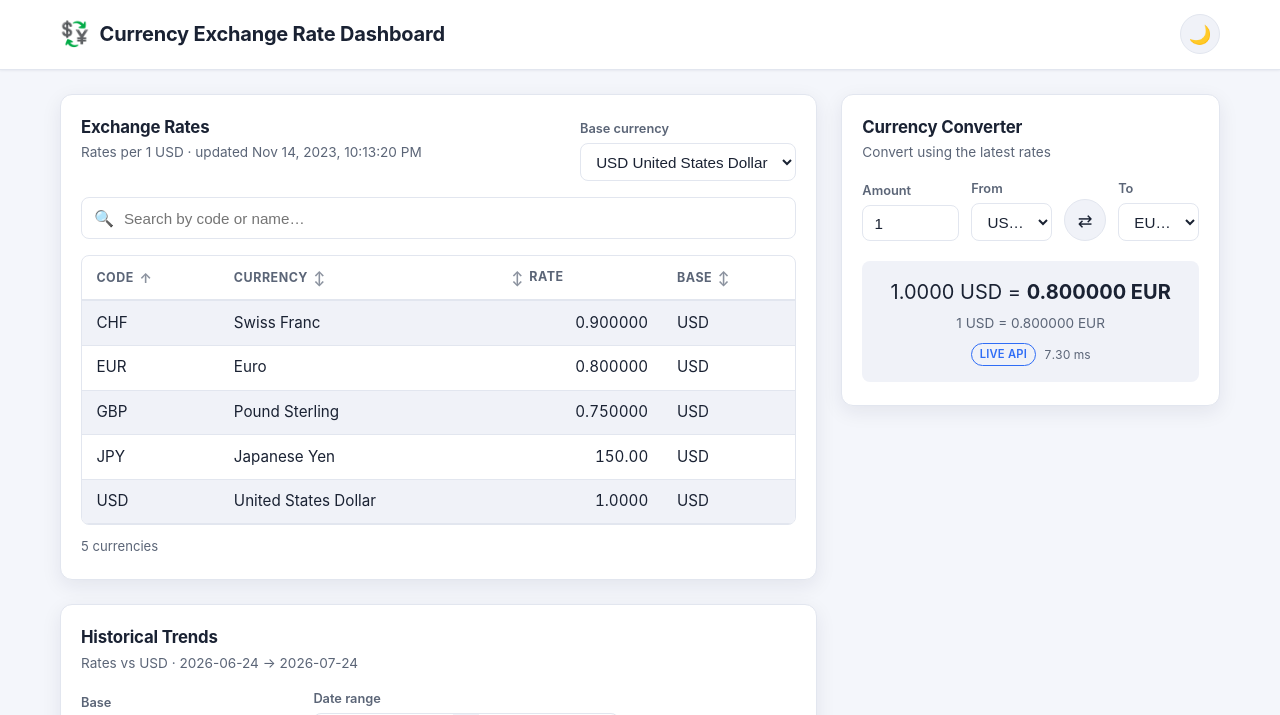
Test: Currency Exchange Rate Dashboard › swaps the converter currencies
Click the button with class "conv__swap": (1085, 220) 1064,199 -> 1106,241
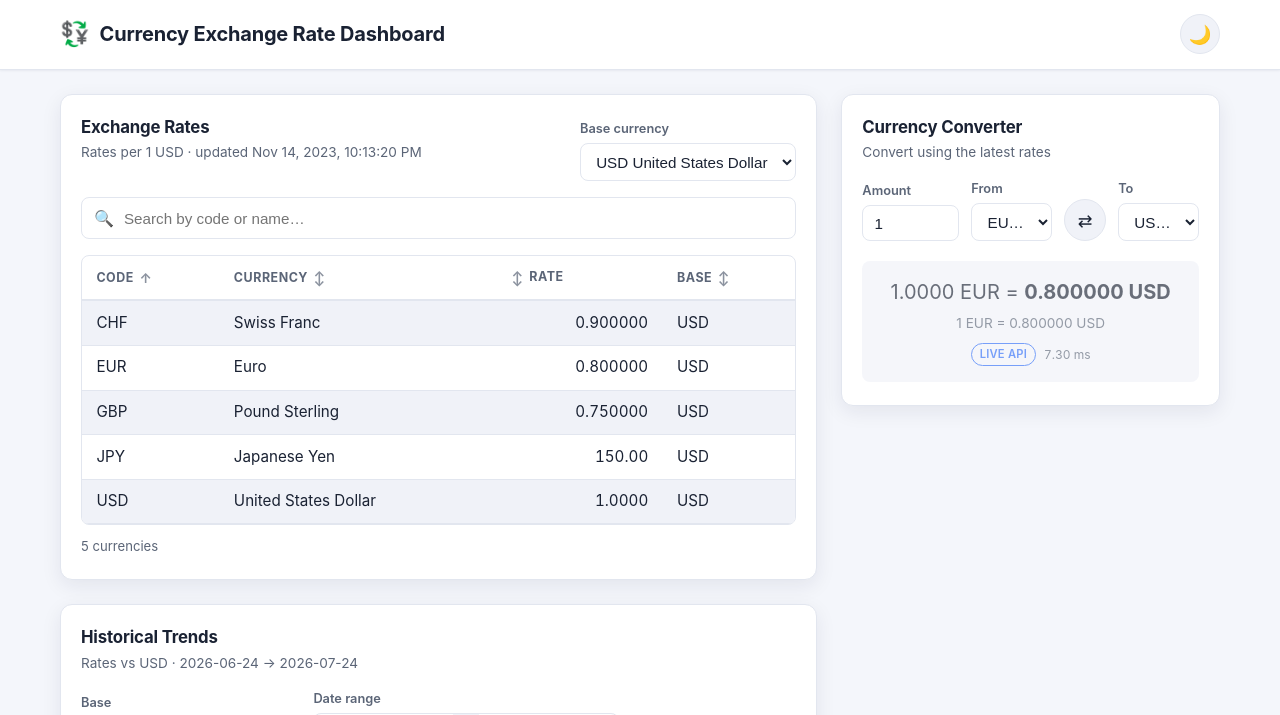
Check: the text with class "conv__result-rate" shows "1 EUR", box 956,315 -> 1105,331
